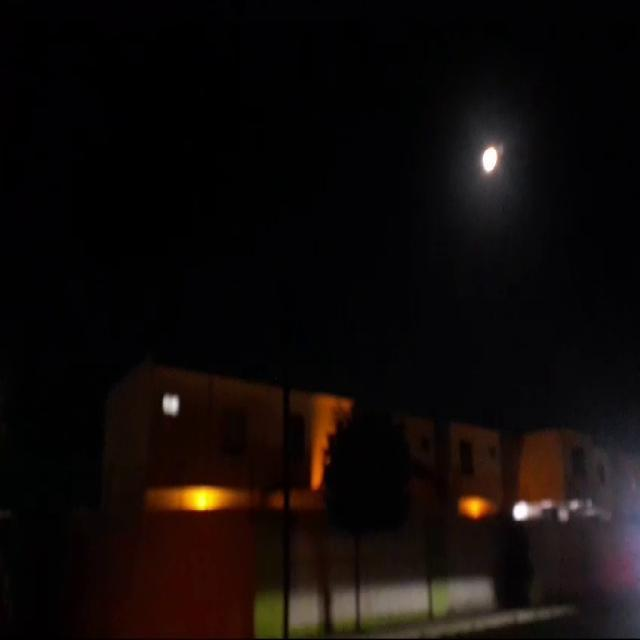moon: (480, 132, 500, 166)
